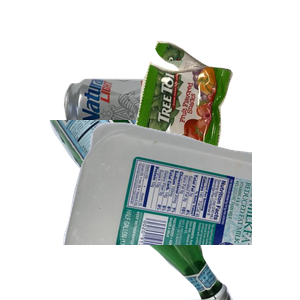glass: (37, 120, 262, 300)
metal: (61, 75, 231, 202)
plastic: (60, 120, 300, 300)
trash: (131, 38, 300, 182)
